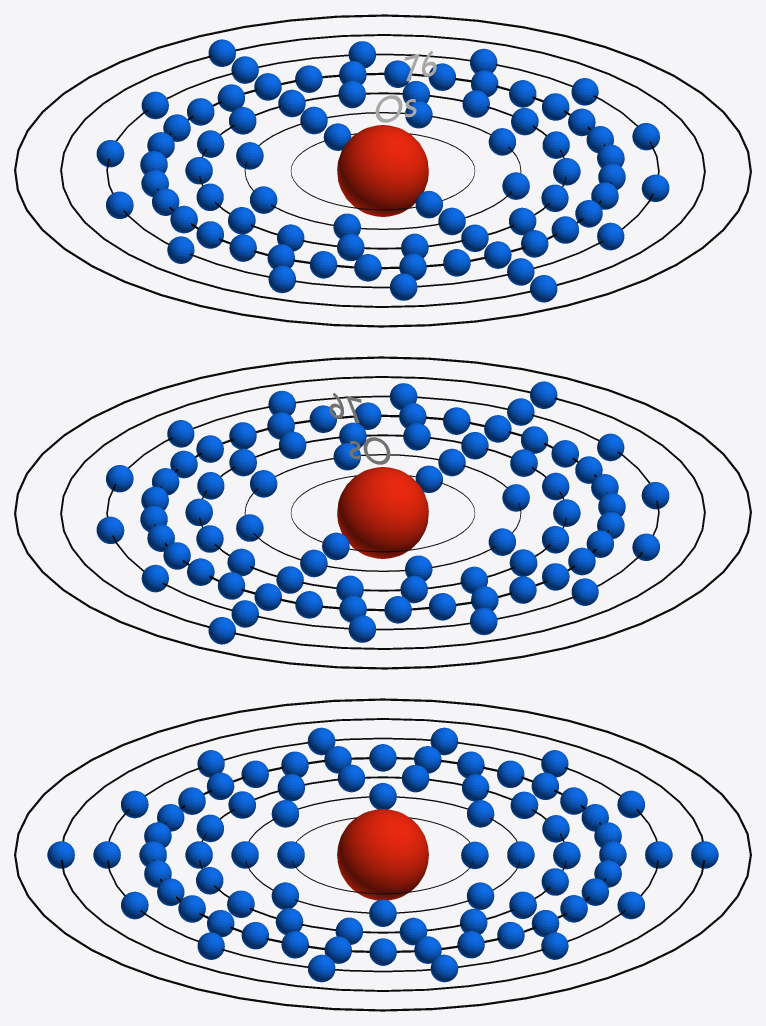
3 views of the same model, one above another, from view 1: azimuth 30°, elevation 25°; view 2: azimuth 150°, elevation 25°; view 3: azimuth 270°, elevation 25° (orthographic).
Parts seen in each view (by area): view 1: Os4, Os3, Os5, Proton, n7, Os2, n6, n5, Os6, Os1, n3, n4 (+1 smaller); view 2: Os4, Os3, Os5, Proton, n7, Os2, n6, n5, Os6, Os1, n3, n4 (+1 smaller); view 3: Os4, Os3, Os5, Proton, Os2, n7, n6, n5, Os1, Os6, n3, n4 (+2 smaller).
Boxes of the visible parts, bbox=[...] form: Os4: bbox=[140, 60, 625, 281]; Os3: bbox=[185, 80, 580, 261]; Os5: bbox=[96, 41, 669, 300]; Proton: bbox=[337, 125, 428, 216]; n7: bbox=[14, 14, 751, 327]; Os2: bbox=[236, 101, 529, 238]; n6: bbox=[60, 34, 705, 307]; n5: bbox=[106, 53, 659, 288]; Os6: bbox=[208, 39, 557, 302]; Os1: bbox=[323, 123, 442, 218]; n3: bbox=[199, 92, 566, 249]; n4: bbox=[152, 72, 611, 269]; Os4: bbox=[140, 402, 625, 623]; Os3: bbox=[185, 422, 580, 603]; Os5: bbox=[96, 383, 669, 642]; Proton: bbox=[337, 467, 428, 558]; n7: bbox=[14, 356, 751, 669]; Os2: bbox=[236, 443, 529, 580]; n6: bbox=[60, 376, 705, 649]; n5: bbox=[106, 395, 659, 630]; Os6: bbox=[208, 381, 557, 644]; Os1: bbox=[322, 465, 442, 560]; n3: bbox=[199, 434, 566, 591]; n4: bbox=[153, 414, 613, 611]; Os4: bbox=[139, 744, 626, 965]; Os3: bbox=[185, 764, 580, 945]; Os5: bbox=[93, 727, 672, 982]; Proton: bbox=[337, 809, 428, 900]; Os2: bbox=[231, 783, 534, 926]; n7: bbox=[14, 698, 751, 1011]; n6: bbox=[61, 718, 704, 991]; n5: bbox=[107, 737, 658, 972]; Os1: bbox=[277, 841, 488, 869]; Os6: bbox=[47, 841, 718, 868]; n3: bbox=[199, 776, 566, 933]; n4: bbox=[153, 757, 612, 952].
Size of the model in its own units: 802 by 180 by 802.
